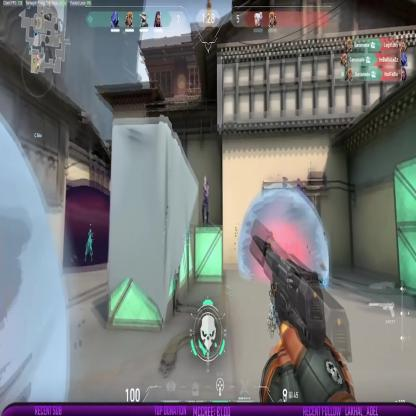enemy: (200, 176, 210, 227)
enemy_head: (203, 177, 207, 184)
